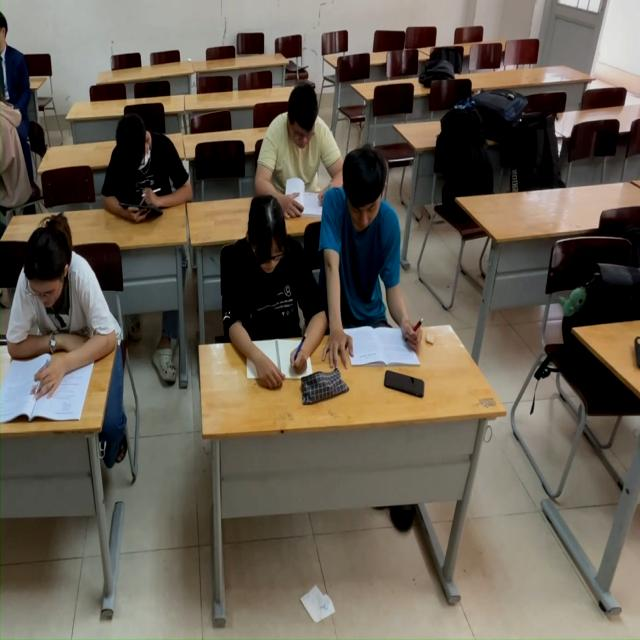read: (326, 142, 427, 379), (219, 209, 327, 393), (250, 86, 344, 214), (116, 99, 209, 214)
